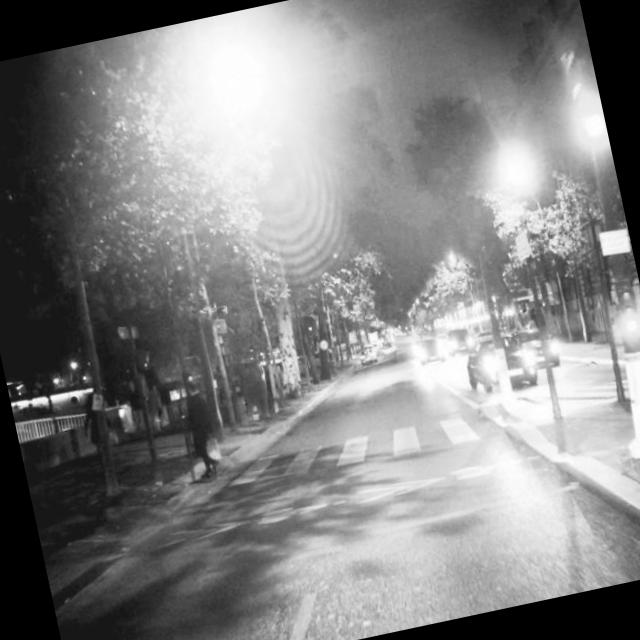Light: (562, 40, 610, 150), (615, 285, 640, 340)
